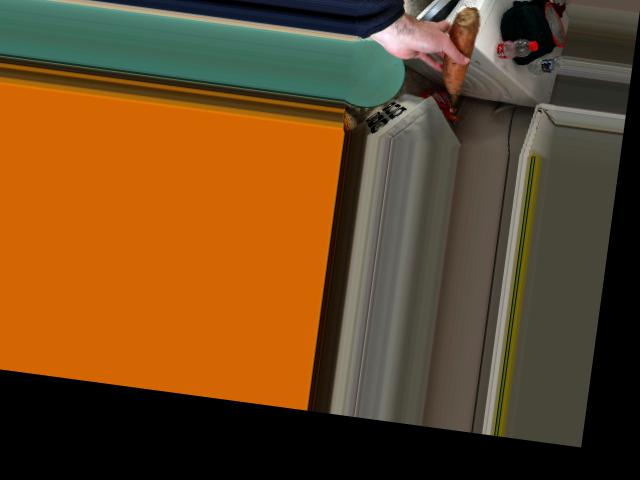sweet_potato: (440, 17, 471, 94)
